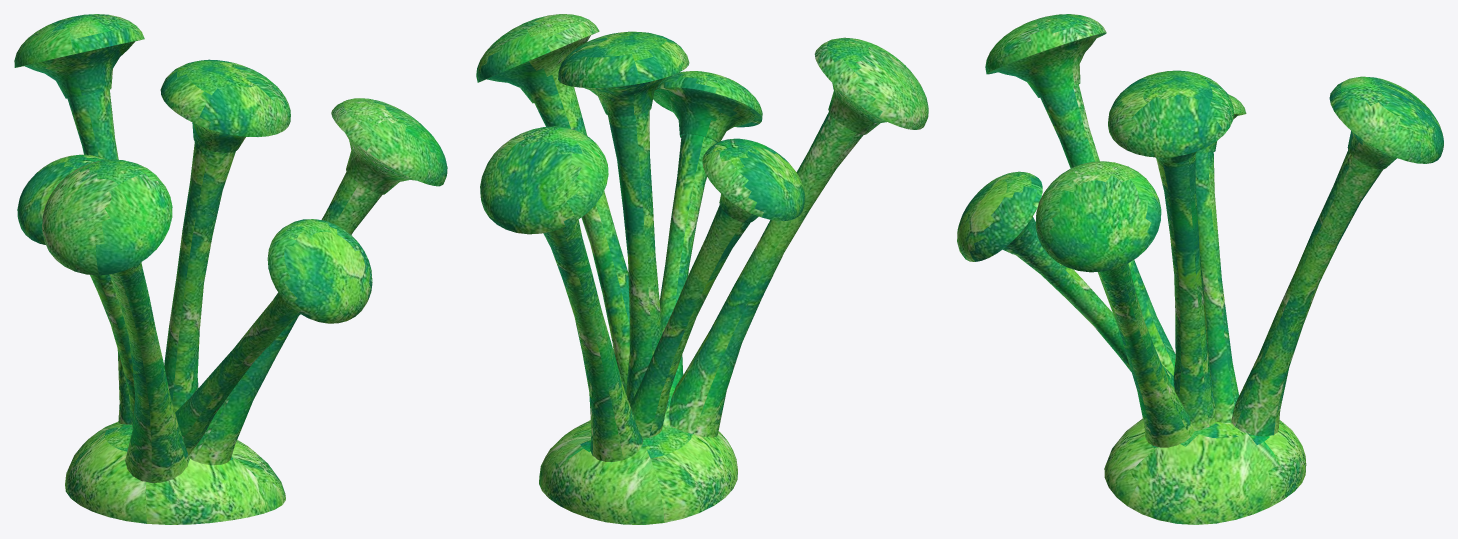
File: RW_Fungus.FBX
The picture shows the model from 3 angles, left to right: view 1: azimuth 30°, elevation 25°; view 2: azimuth 150°, elevation 25°; view 3: azimuth 270°, elevation 25°; orthographic projection. The views are drawn at different scales.
Parts seen in each view (by area): view 1: Sphere002; view 2: Sphere002; view 3: Sphere002.
Part boxes in pixels (x1,y1,x2,y2): Sphere002: (14,14,447,524); Sphere002: (476,14,928,524); Sphere002: (957,14,1443,524).
Size of the model in its own units: 142 by 143 by 153.
Materials: 1 (1 with a texture image).
